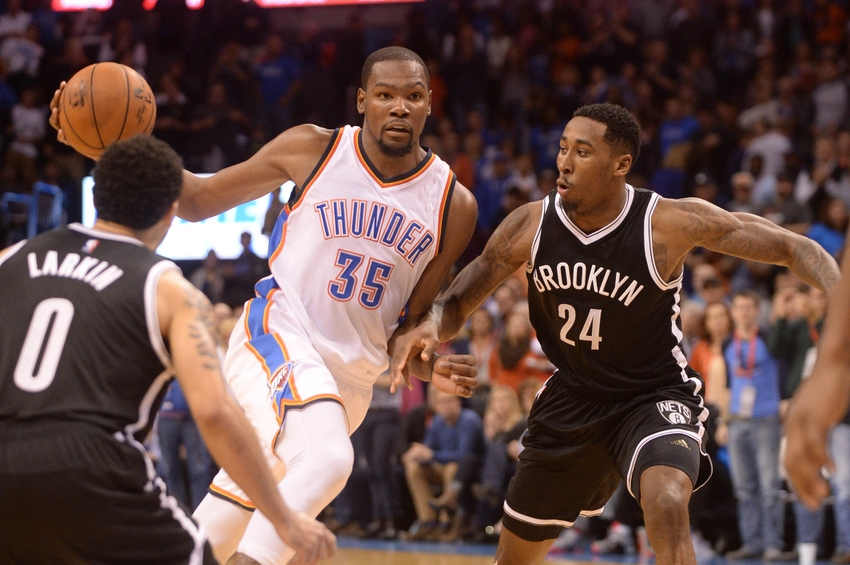basketball: (59, 63, 157, 160)
